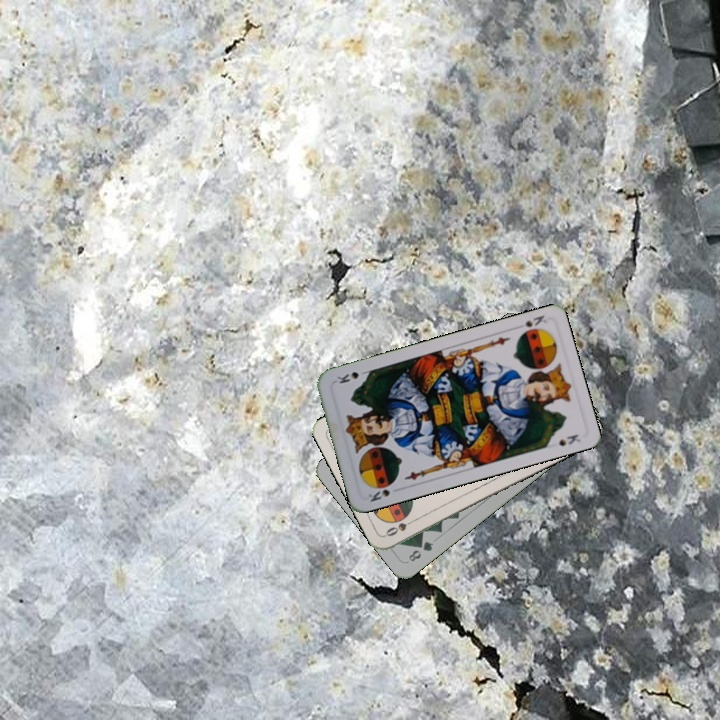G8: (404, 537, 436, 564)
SK: (511, 311, 549, 338), (364, 485, 392, 504)
SO: (381, 514, 419, 539)
